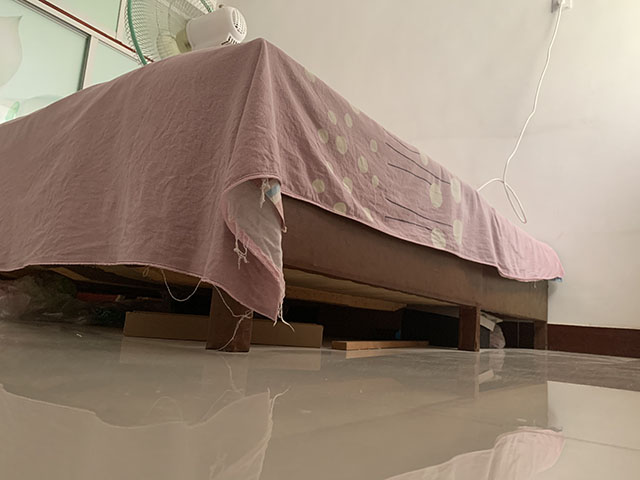bed: (1, 36, 565, 353)
